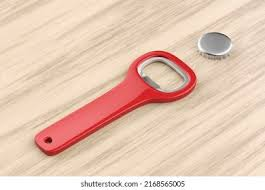bottleopener: (34, 50, 197, 157)
